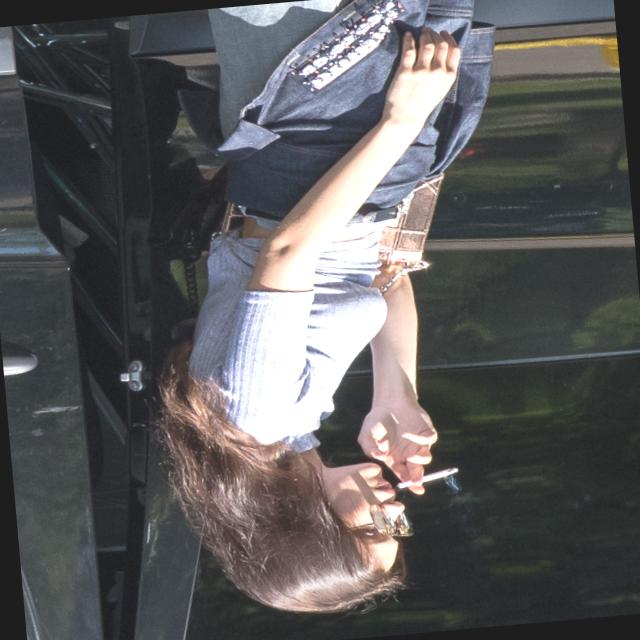smoke: (389, 451, 470, 496)
